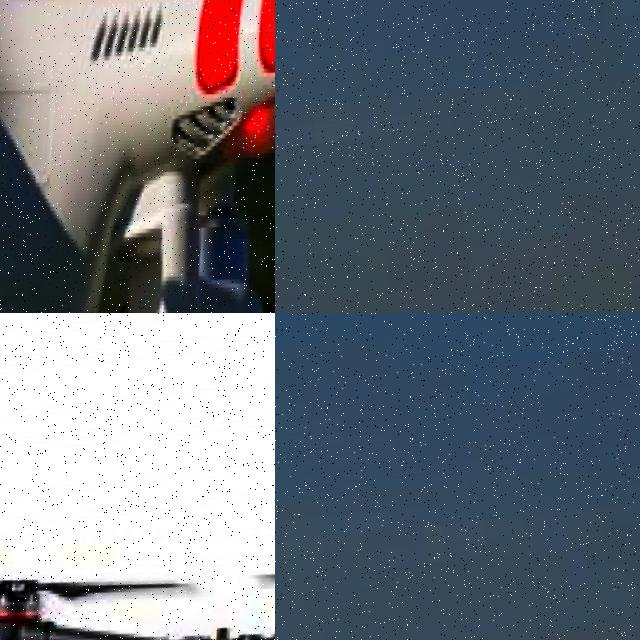drone: (0, 0, 275, 313), (0, 478, 275, 640)
